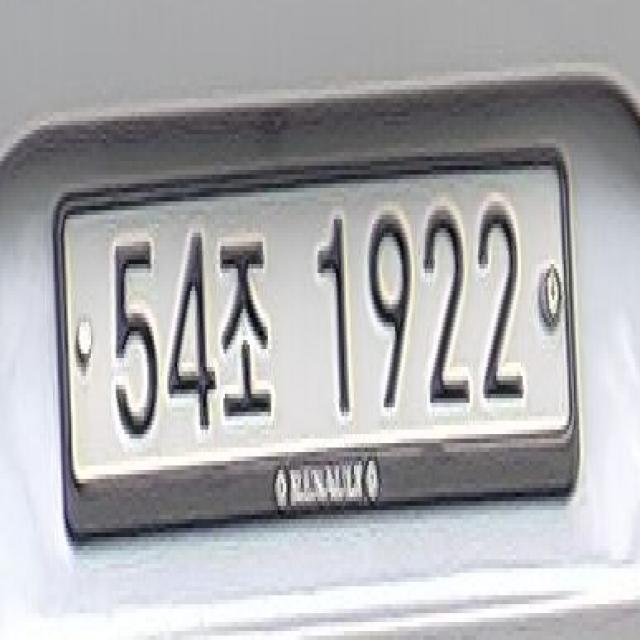1: (316, 201, 359, 403)
2: (420, 170, 475, 452), (473, 170, 528, 403)
4: (164, 224, 218, 443)
5: (109, 246, 159, 430)
9: (365, 174, 417, 420)
jo: (213, 219, 286, 434)
license_plate: (54, 121, 588, 591)
